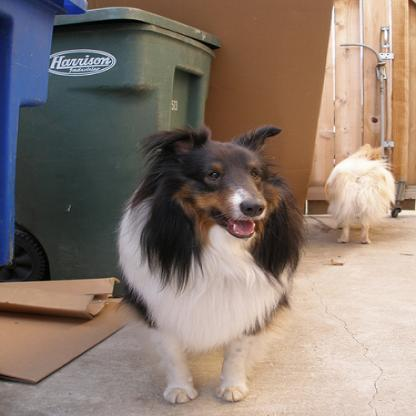Shetland_sheepdog: (113, 122, 302, 404)
